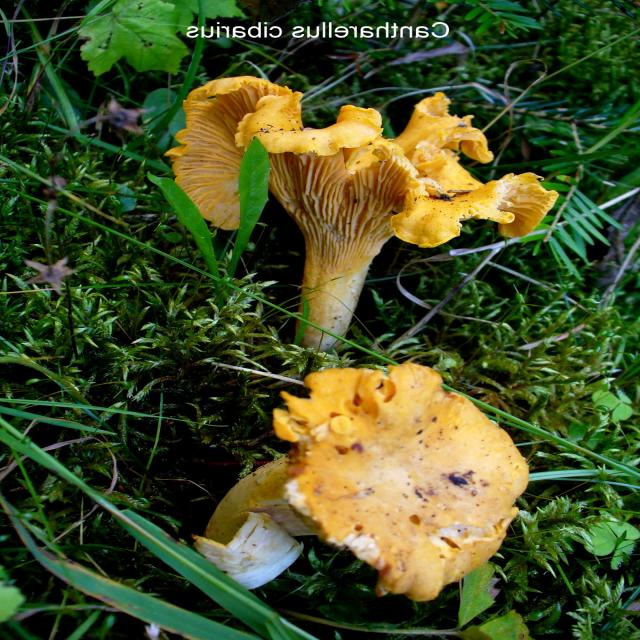chanterelle: (163, 76, 560, 353), (202, 363, 531, 604)
